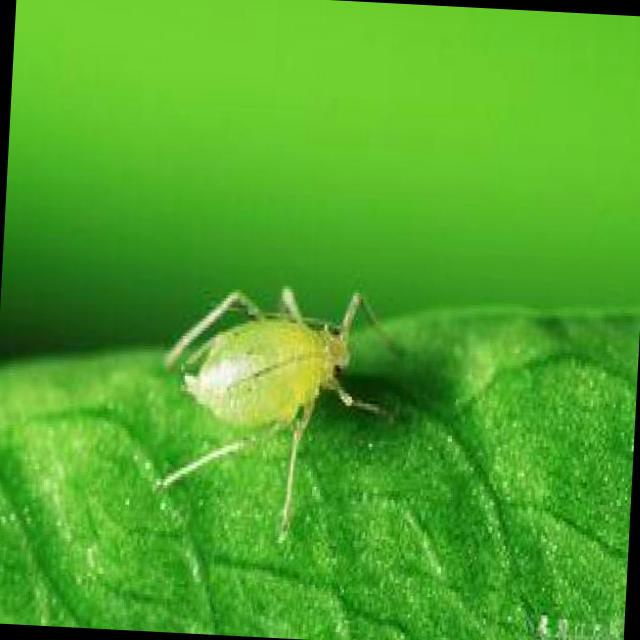aphid: (184, 260, 386, 514)
